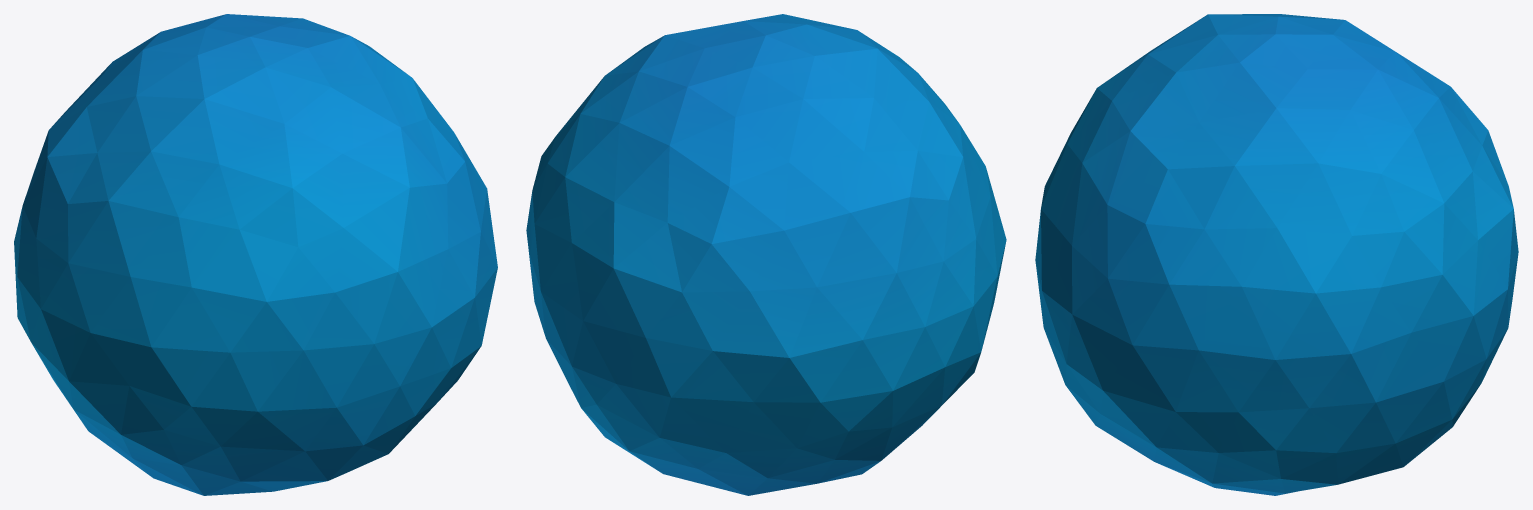
File: Uranus.fbx
3 views of the same model, side by side, from view 1: azimuth 30°, elevation 25°; view 2: azimuth 150°, elevation 25°; view 3: azimuth 270°, elevation 25° (orthographic).
Parts seen in each view (by area): view 1: Uranus; view 2: Uranus; view 3: Uranus.
Boxes of the visible parts, left/top/right/bottom form: Uranus: left=14, top=14, right=497, bottom=495; Uranus: left=526, top=14, right=1006, bottom=495; Uranus: left=1035, top=14, right=1518, bottom=495.
Size of the model in its own units: 20.25 by 20 by 19.88.
